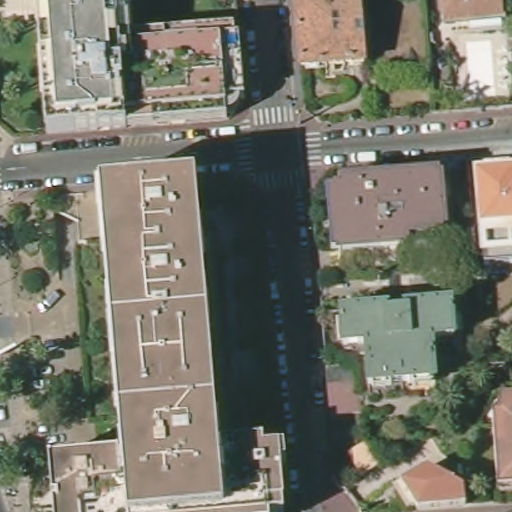pool: (226, 30, 241, 47)
